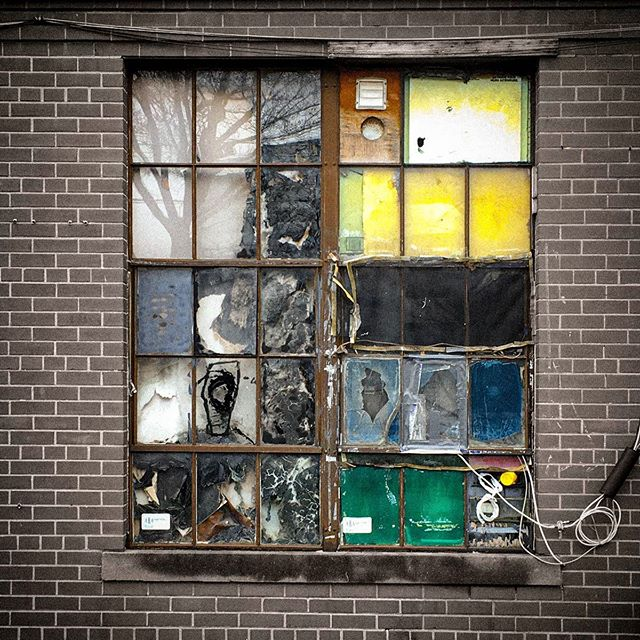window: (130, 65, 546, 546)
